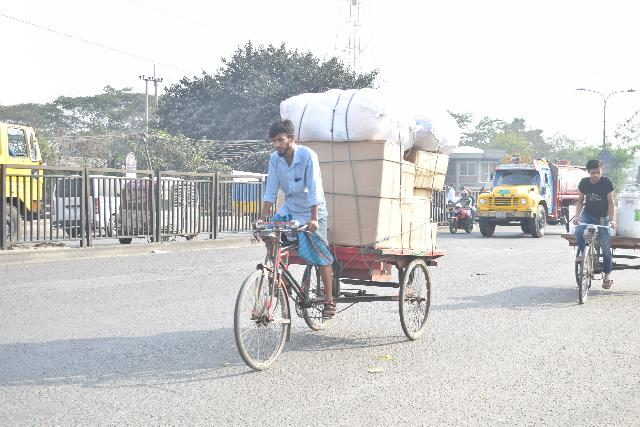motorcycle: (443, 196, 479, 244)
truck: (472, 151, 594, 251), (0, 115, 46, 256)
